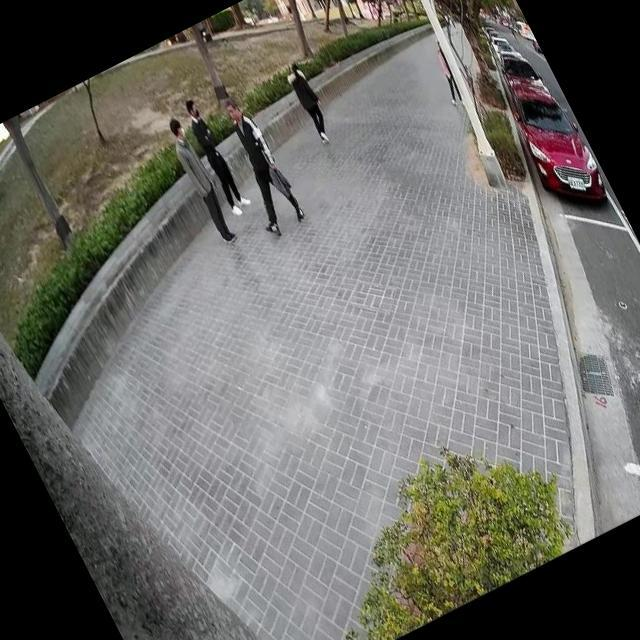person: (199, 86, 312, 244), (156, 110, 244, 249), (172, 88, 258, 222), (277, 53, 342, 149), (421, 40, 470, 112)
